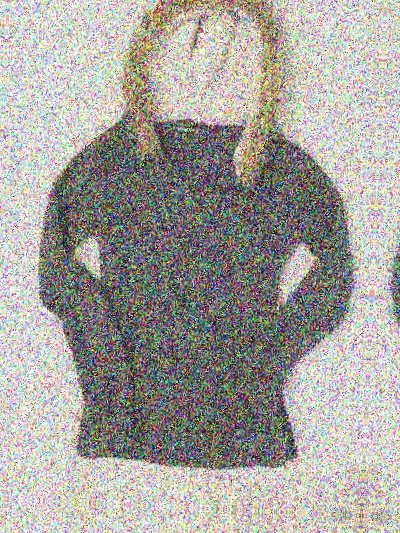Hoodie: (19, 0, 372, 485), (377, 0, 400, 502), (0, 531, 346, 533)
